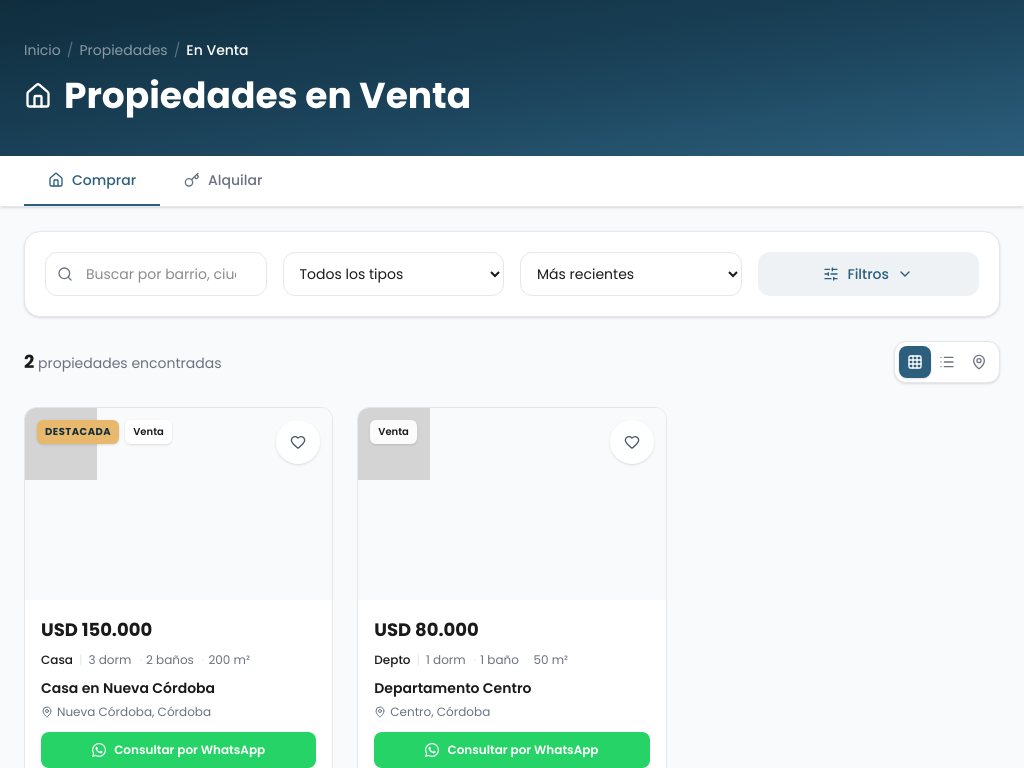
Test: PropertiesResults › clears filters on reset button click
The image size is (1024, 768).
// Apply a filter first
Select "Departamento" in the 1st dropdown: (393, 274) [282,252,504,296]
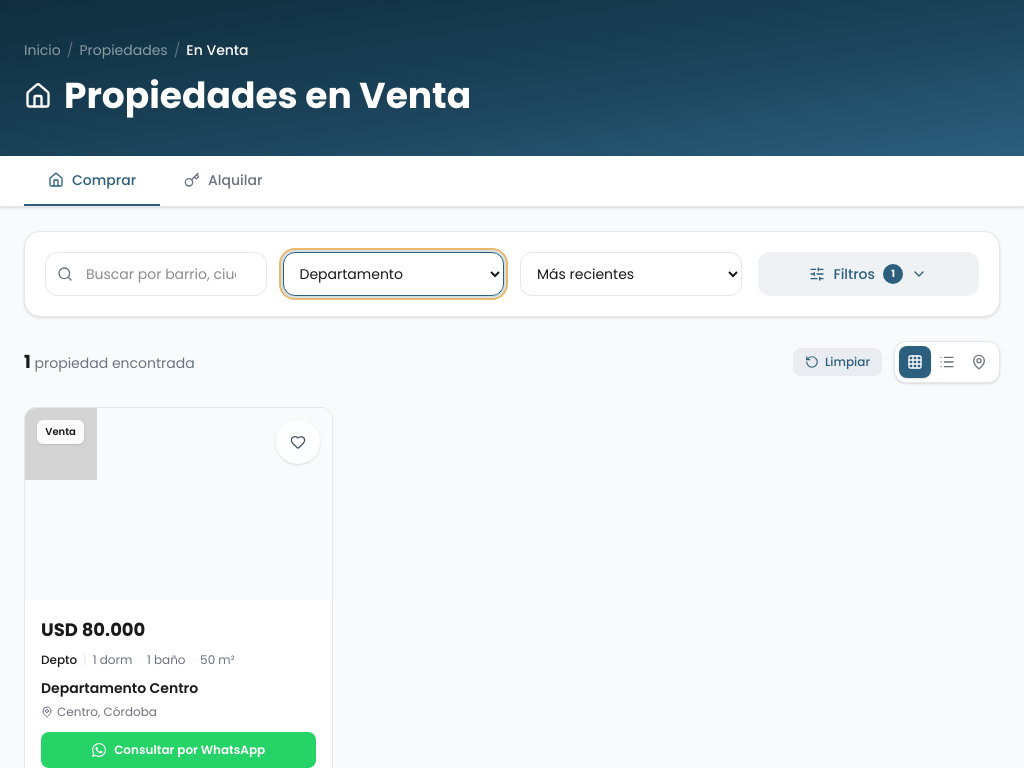
// Click clear filters
Click the button "Limpiar": (838, 362) [793,348,882,376]
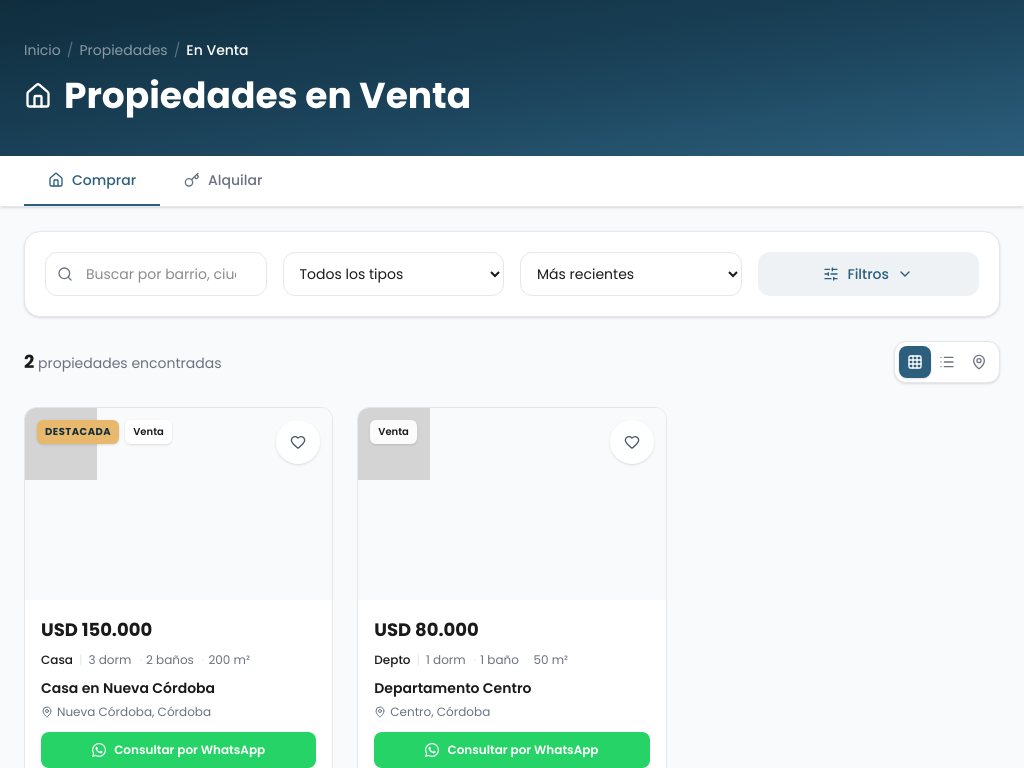
Expected: the heading "Departamento Centro" is shown, [374,678,532,698]
Expected: the heading "Casa en Nueva Córdoba" is shown, [41,678,215,698]
